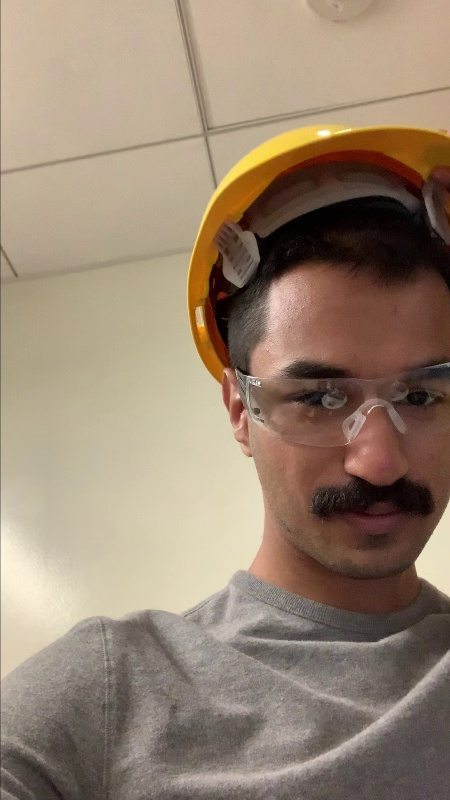glasses: (253, 364, 450, 438)
helmet: (214, 116, 450, 209)
